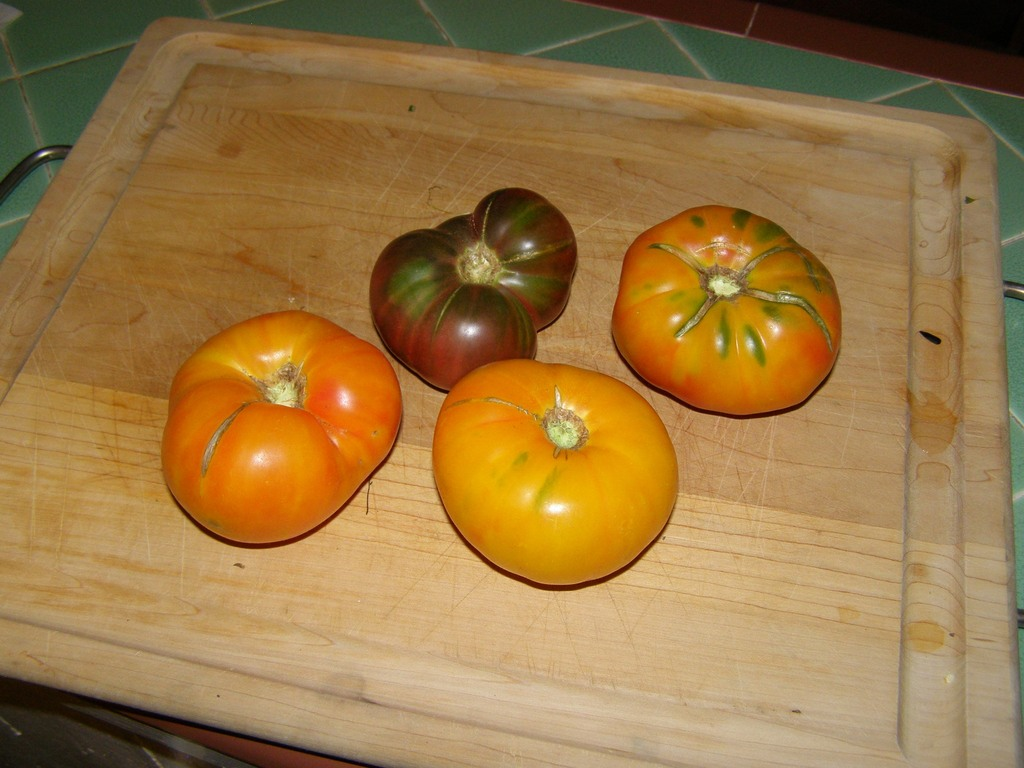Tomato: (431, 358, 679, 586), (161, 310, 400, 544), (611, 205, 839, 414), (370, 189, 575, 392)
